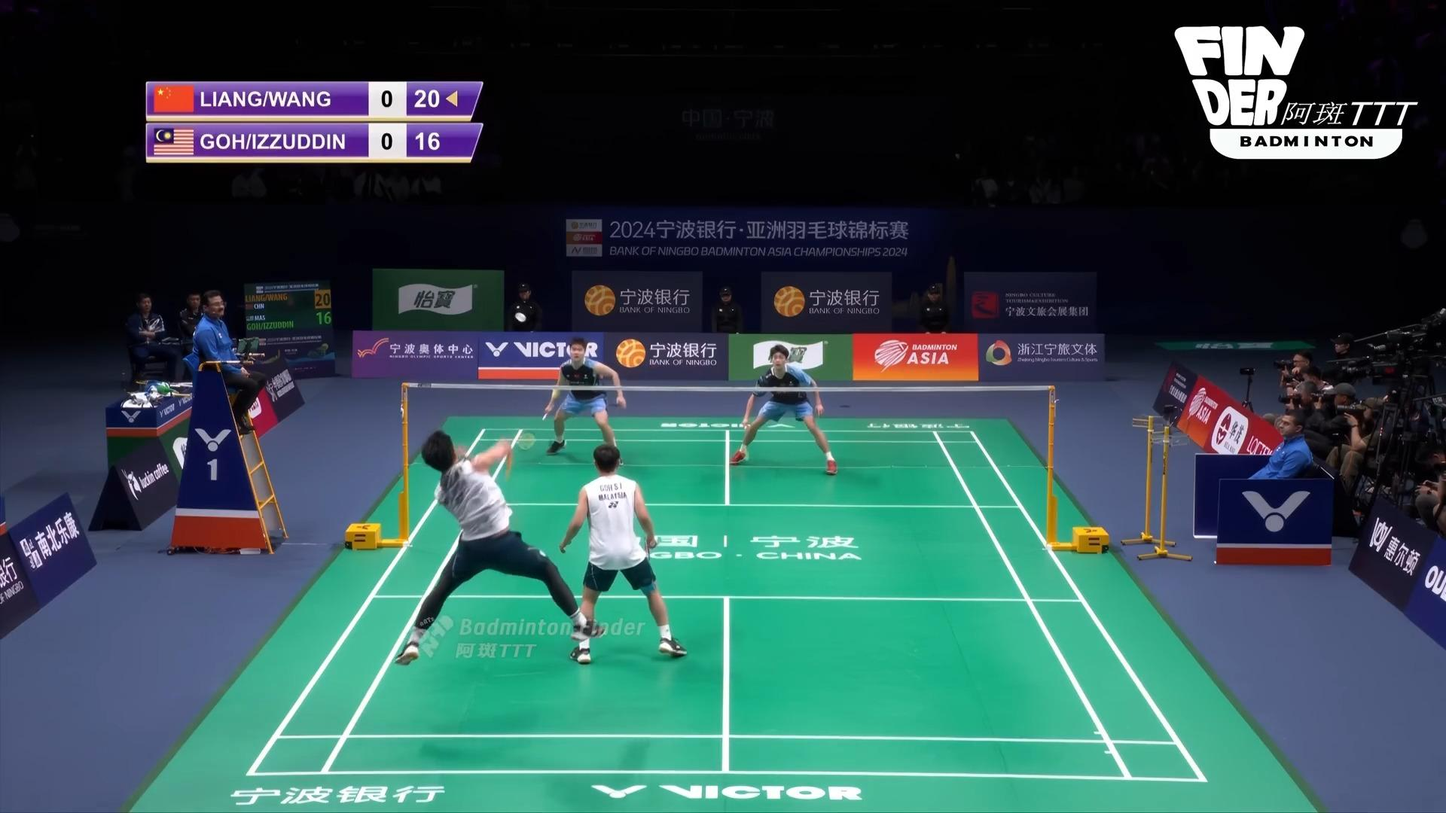shuttlecock: (514, 312, 527, 324)
